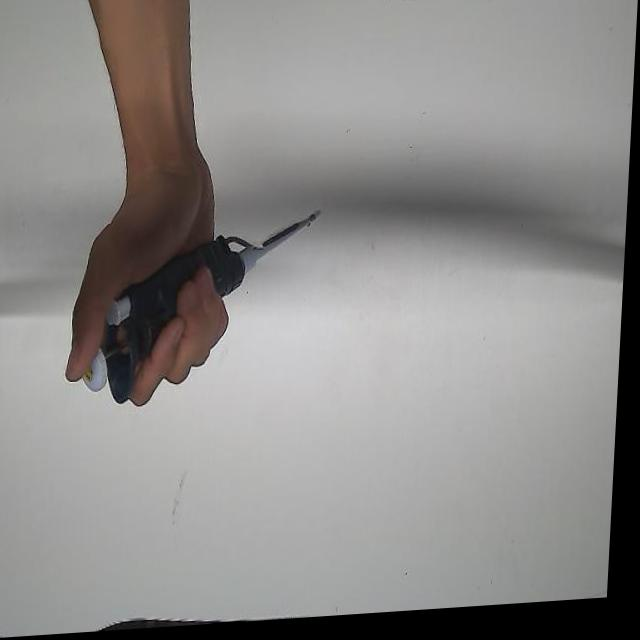Single Channel Pipettor: (83, 209, 327, 410)
